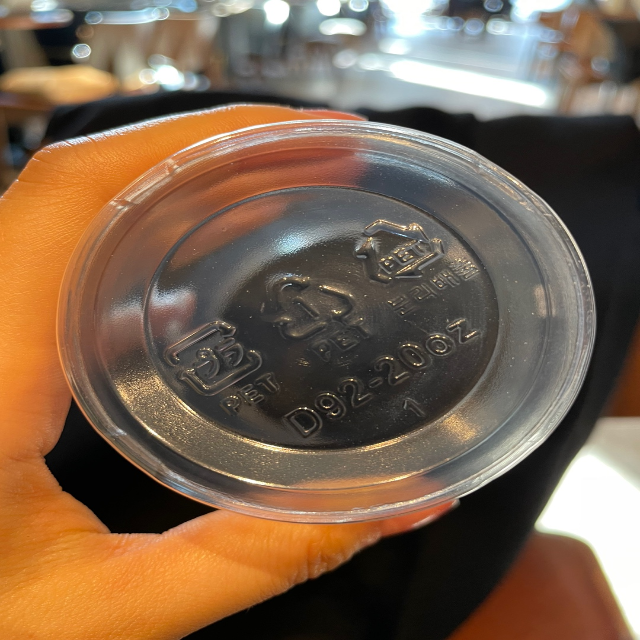pet: (357, 206, 481, 317), (153, 316, 290, 414), (262, 266, 377, 356)
